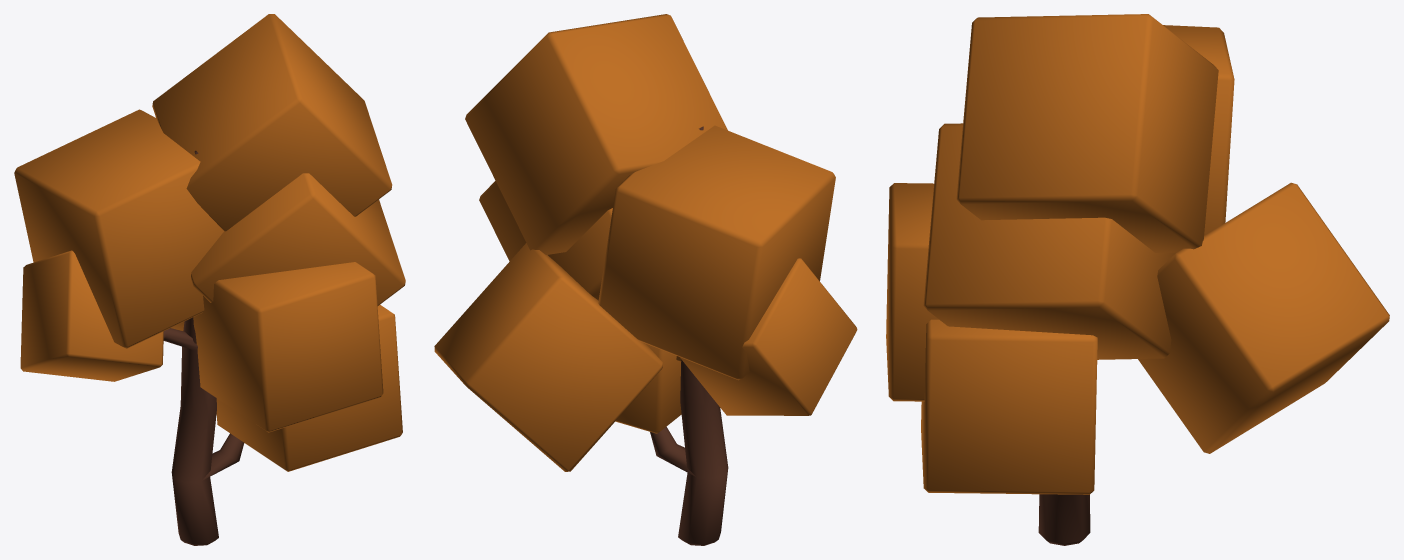
File: tree-b2.glb
3 views of the same model, side by side, from view 1: azimuth 30°, elevation 25°; view 2: azimuth 150°, elevation 25°; view 3: azimuth 270°, elevation 25° (orthographic). The views are drawn at different scales.
Visible parts, largest first — view 1: tree-20.col; view 2: tree-20.col; view 3: tree-20.col.
Boxes of the visible parts, <box> form: tree-20.col: <box>14,14,405,545</box>; tree-20.col: <box>434,14,857,545</box>; tree-20.col: <box>886,14,1389,545</box>.
Size of the model in its own units: 1.09 by 1.48 by 1.15.
1 material, 1 textured.
